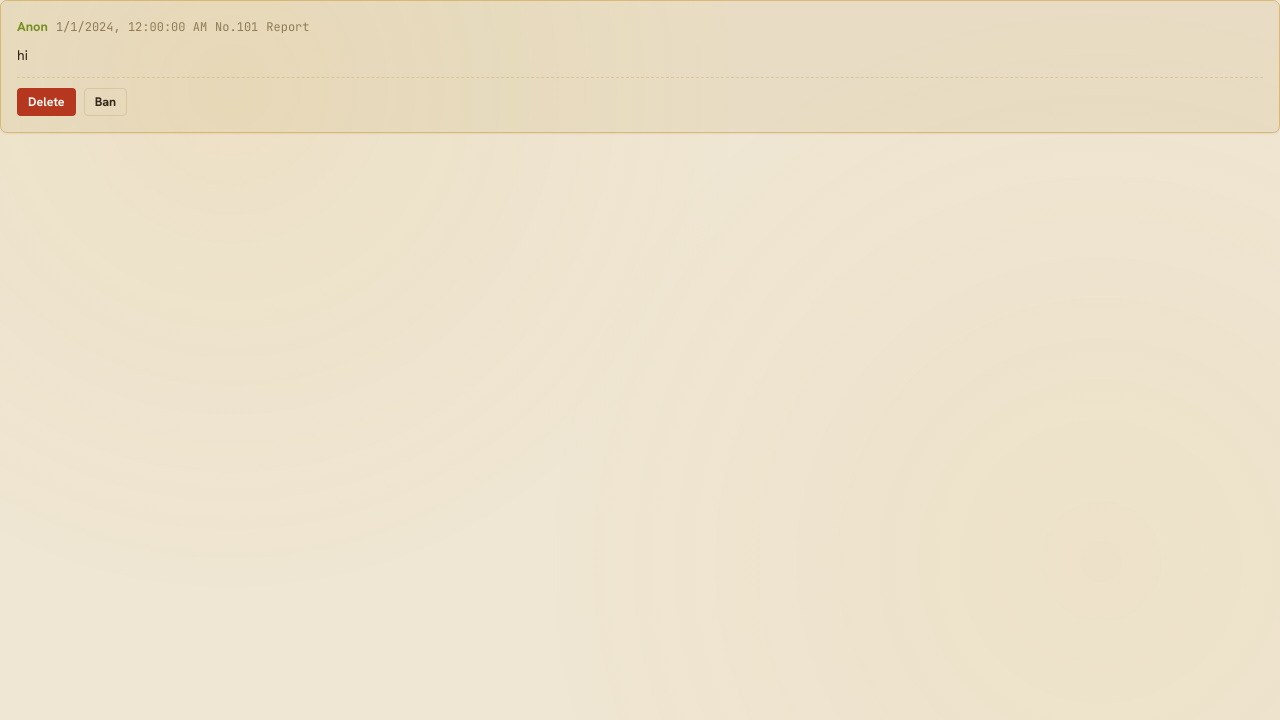
Test: PostArticle › shows a fallback message when banning fails without a detail
The width and height of the screenshot is (1280, 720).
Step 1. Click the button "Ban" → (105, 102), box [84, 88, 127, 116]
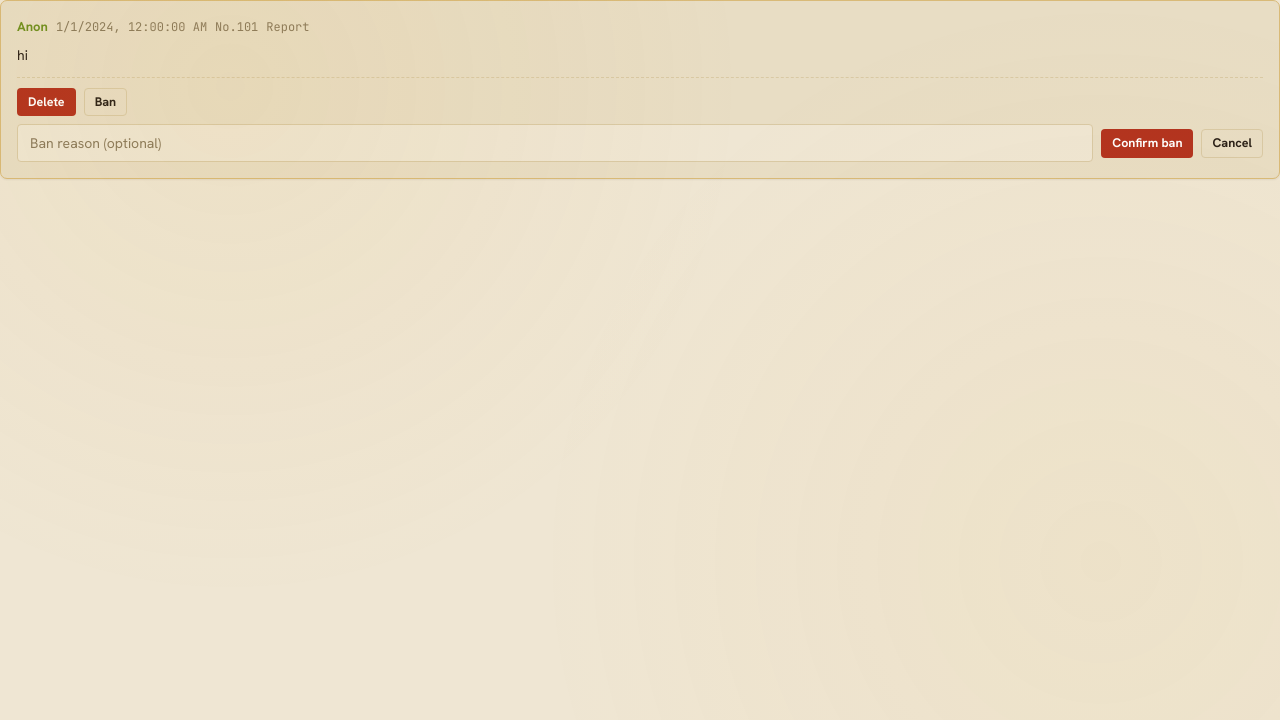
Step 2. Click the button "Confirm ban" → (1147, 143), box [1101, 129, 1194, 158]
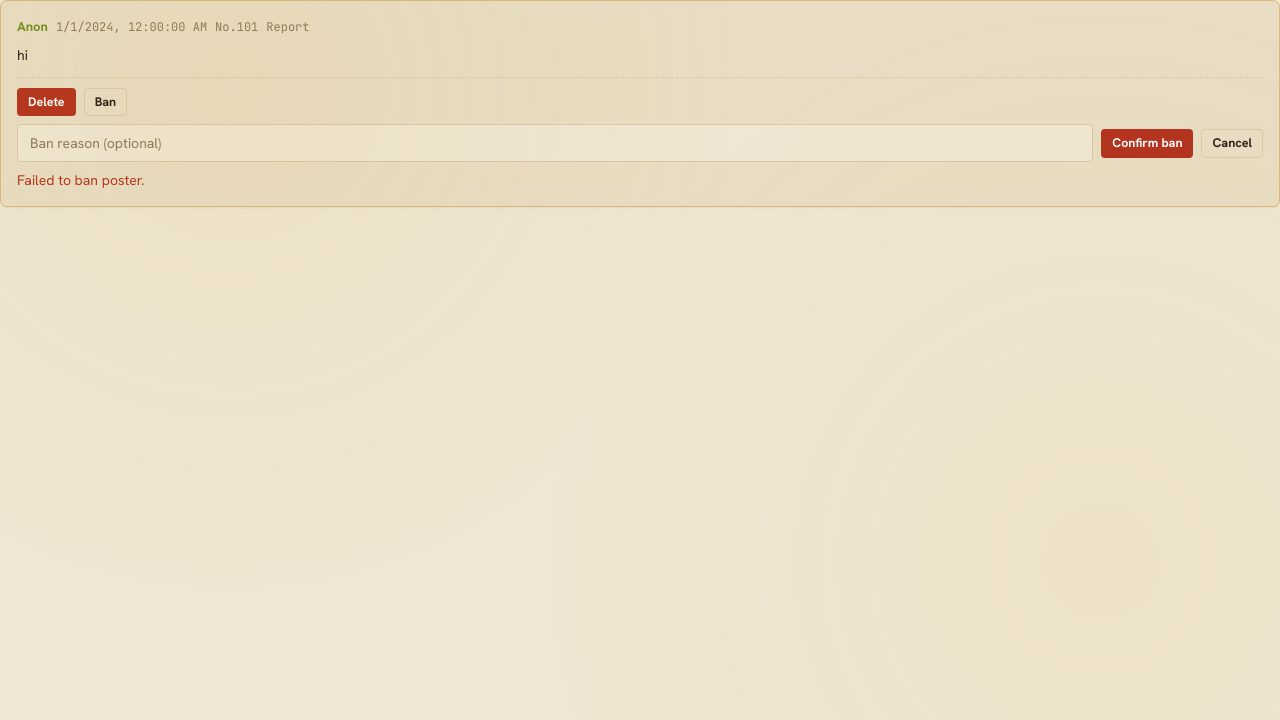
Now the text "Failed to ban poster." is shown, box [17, 171, 144, 189]
